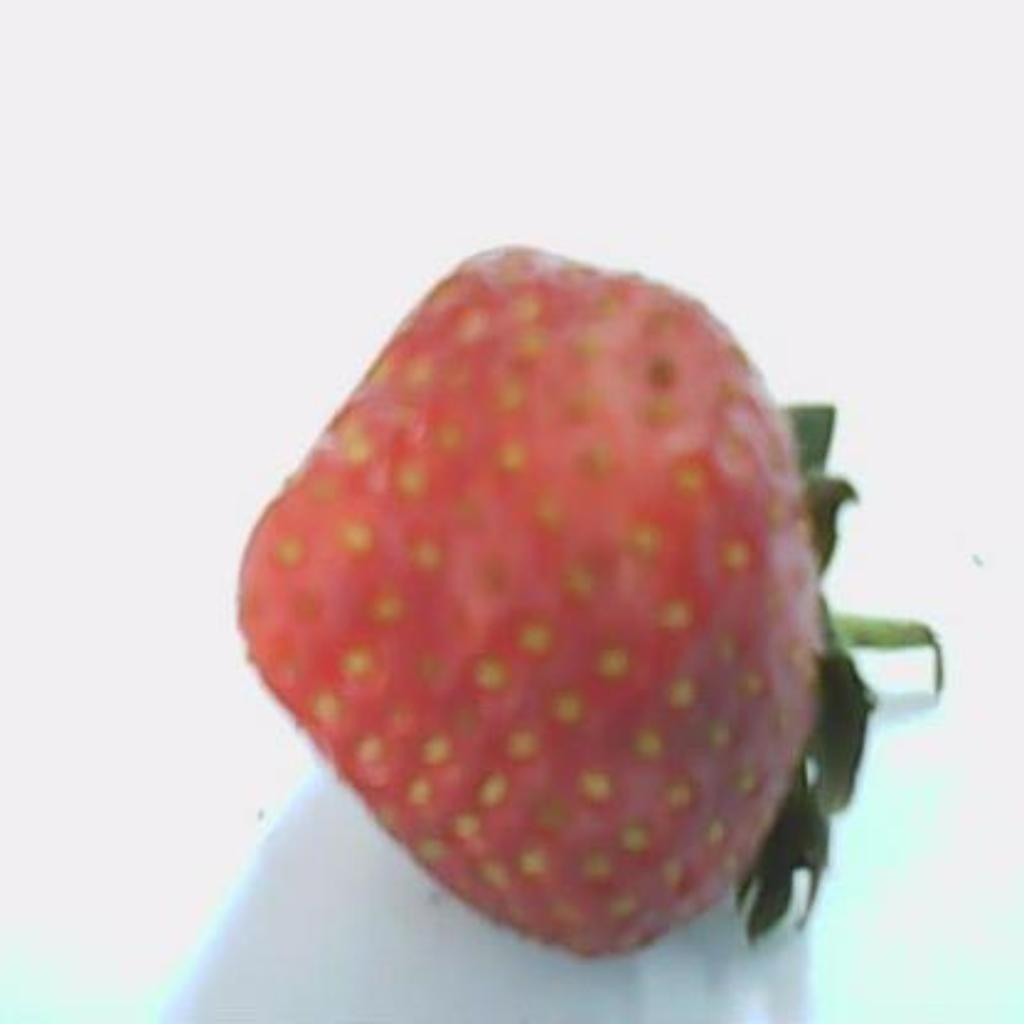strawberry: (240, 248, 936, 955)
